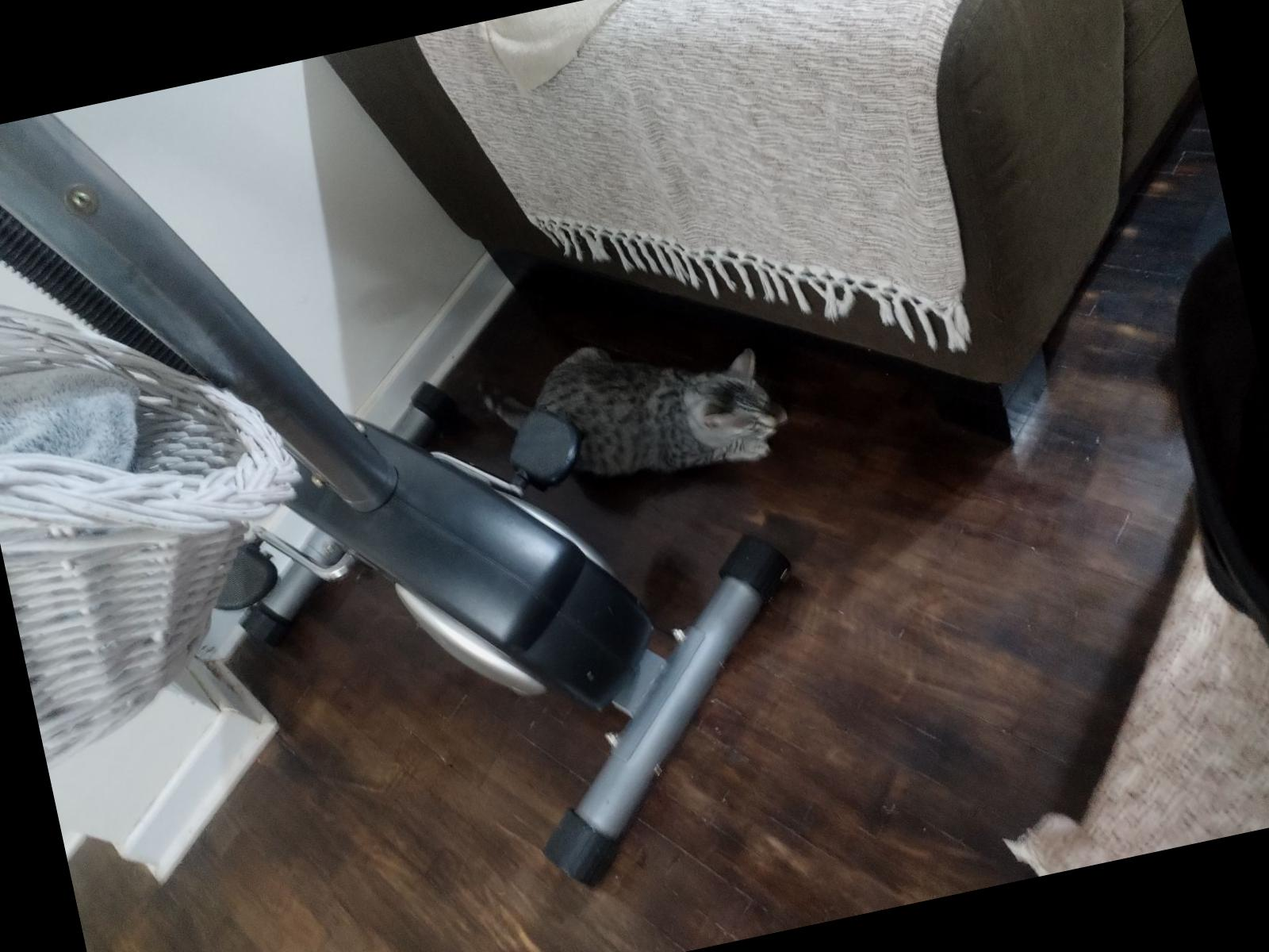macka: (466, 303, 805, 519)
